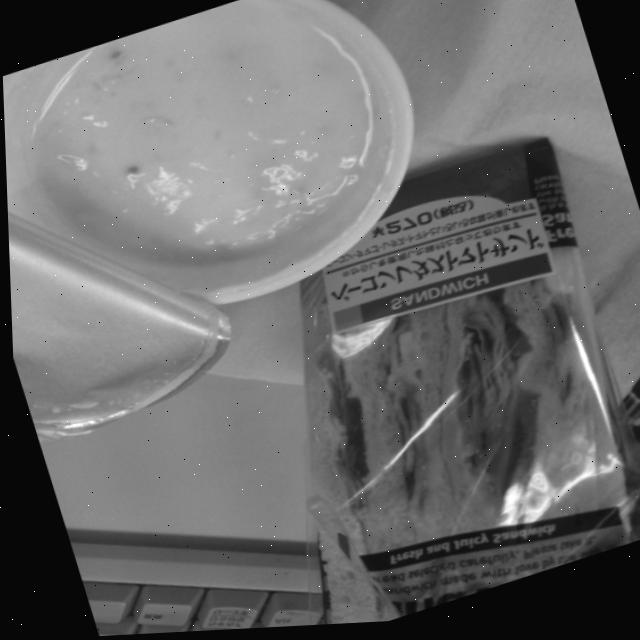三明治: (182, 120, 640, 633)
